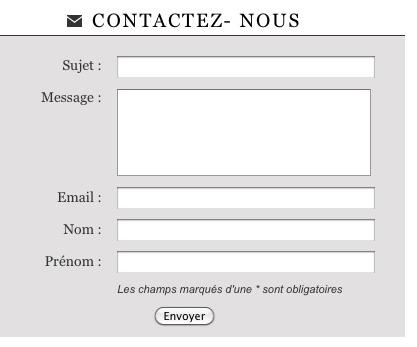button: (153, 306, 213, 326)
field: (115, 88, 372, 177), (116, 53, 375, 80), (115, 249, 375, 275), (116, 217, 377, 242), (115, 185, 375, 208)
field_with_label: (42, 86, 374, 178), (44, 247, 376, 277), (61, 51, 377, 82), (64, 215, 379, 244), (57, 183, 377, 210)
